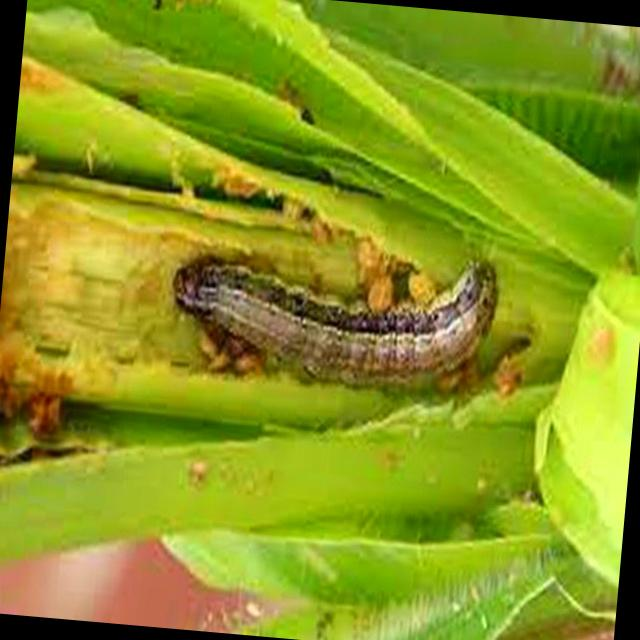pest: (183, 252, 496, 393)
